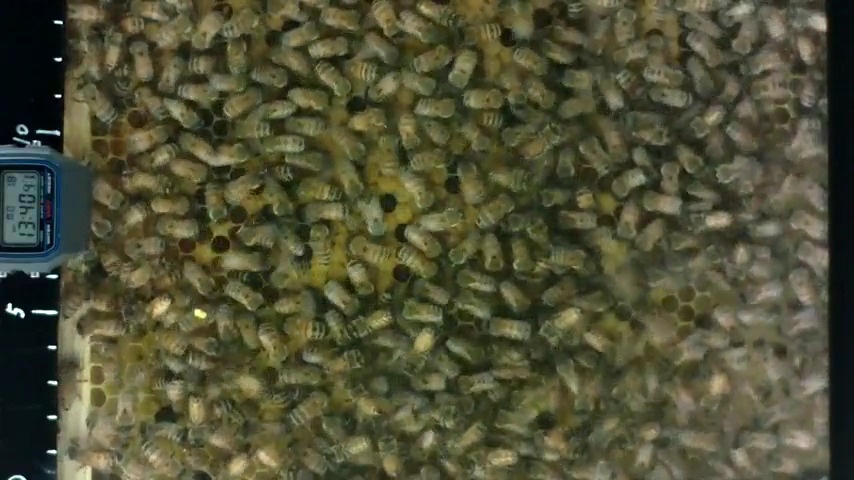hati: (75, 81, 118, 126), (481, 317, 535, 344), (456, 155, 484, 206), (347, 234, 393, 265), (225, 281, 267, 312), (317, 6, 363, 33), (294, 176, 341, 202), (129, 38, 155, 84), (308, 223, 334, 268), (397, 300, 444, 324), (153, 215, 202, 238), (229, 118, 275, 140), (306, 37, 352, 59), (461, 87, 506, 109), (456, 24, 503, 45), (397, 110, 420, 152), (176, 84, 219, 103)
